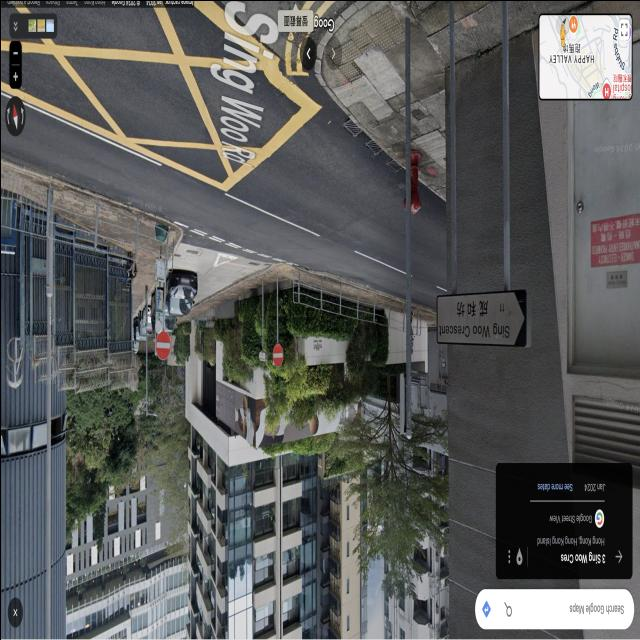Street-Direction-Sign: (434, 288, 525, 346), (154, 330, 168, 360), (272, 344, 282, 366)
